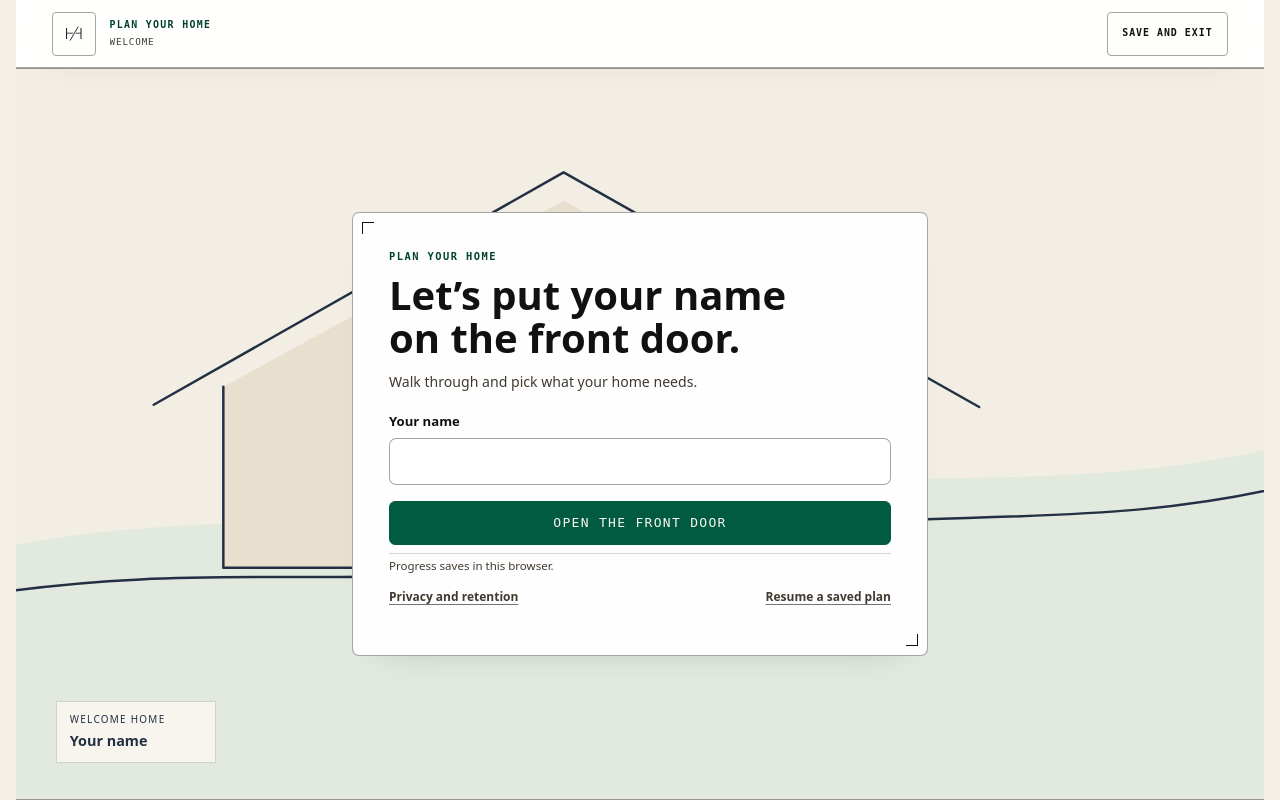
Test: welcome personalizes decorative plaque and the front-door beat opens exact question 1
The image size is (1280, 800).
Expected: the link "Save and exit" is shown, x1=1107 y1=12 x2=1228 y2=56
Step 1. Type "Taylor Homeowner" into the field labelled "Your name" → (640, 461), box x1=389 y1=438 x2=891 y2=485
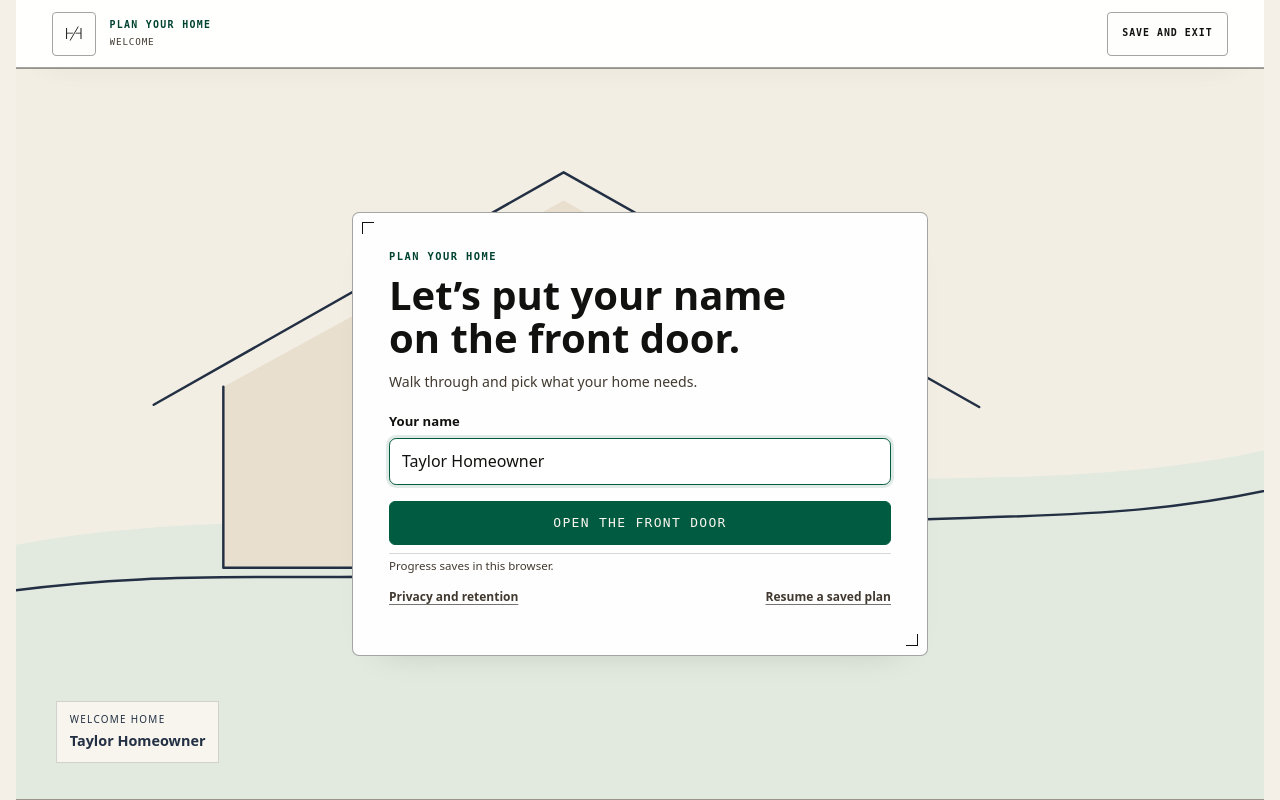
Step 2. Click the button "Open the front door" → (640, 523), box x1=389 y1=501 x2=891 y2=545
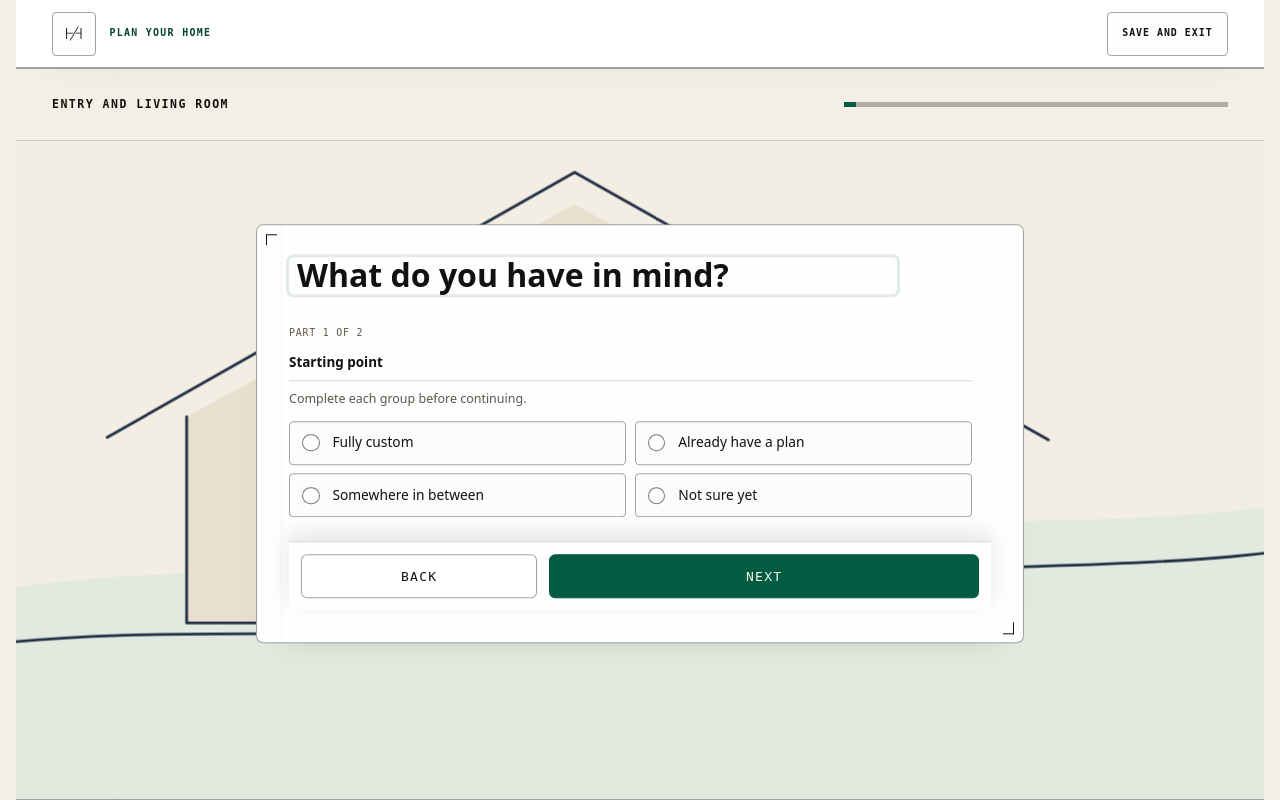
Expected: the link "Save and exit" is shown, x1=1107 y1=12 x2=1228 y2=56
Now the heading "What do you have in mind?" is shown, box x1=289 y1=257 x2=897 y2=294
